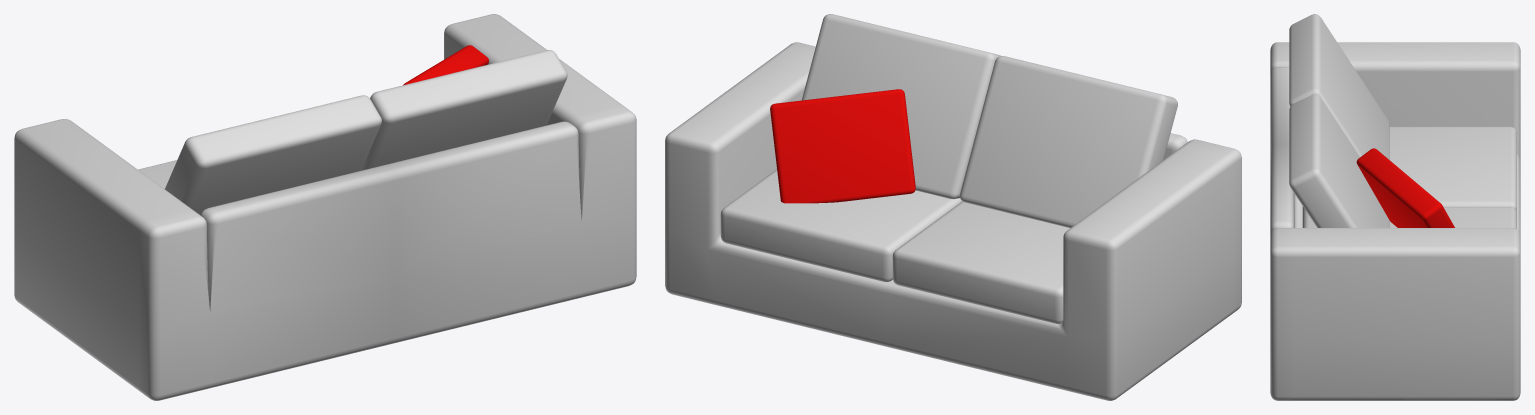
The model's file is sofablancoTipo1.glb.
3 views of the same model, side by side, from view 1: azimuth 30°, elevation 25°; view 2: azimuth 150°, elevation 25°; view 3: azimuth 270°, elevation 25° (orthographic). The views are drawn at different scales.
Size of the model in its own units: 2.28 by 1.05 by 1.15.
